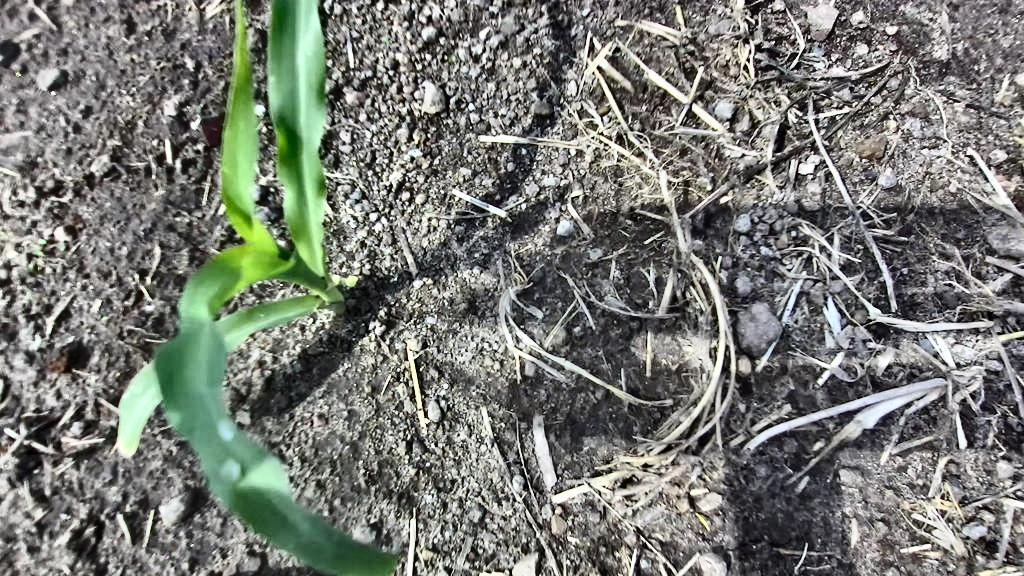BroWeed: (694, 509, 714, 531), (190, 96, 207, 116), (187, 113, 204, 131), (53, 239, 68, 252), (30, 247, 46, 259), (26, 258, 37, 275), (447, 51, 458, 64), (35, 238, 49, 246)
